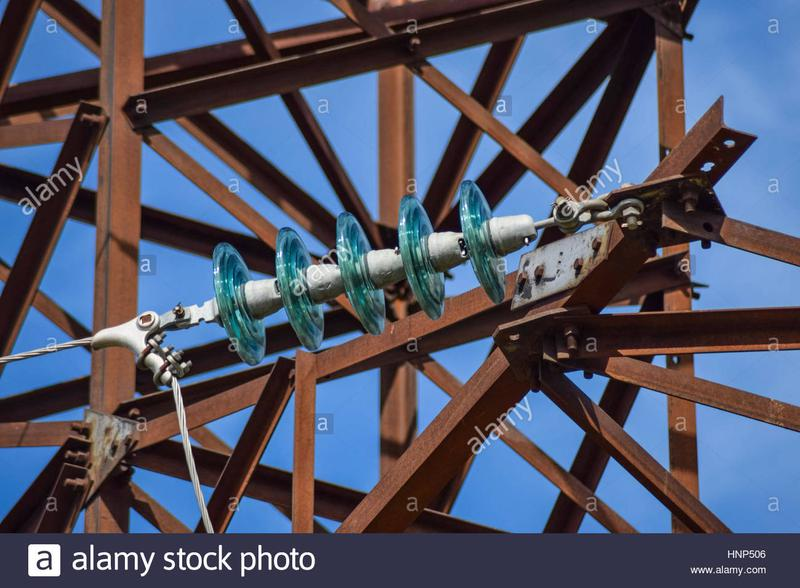isolator: (211, 179, 507, 366)
